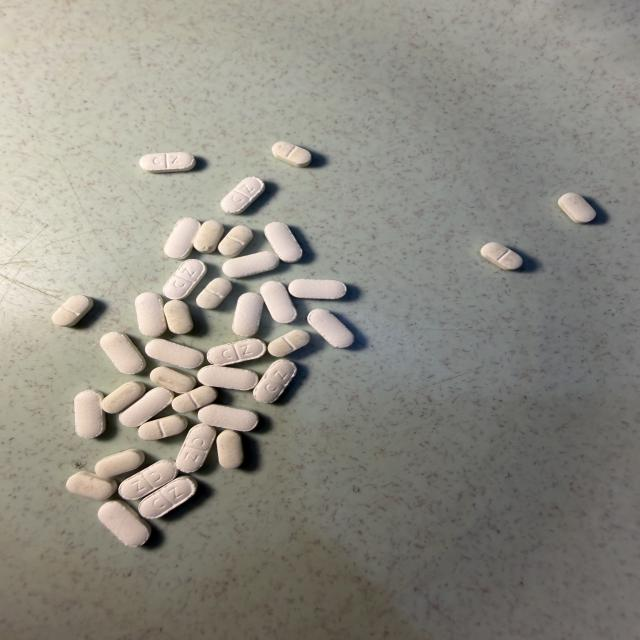pill: (138, 476, 197, 519), (98, 501, 151, 546), (119, 459, 177, 499), (119, 387, 174, 427), (176, 424, 216, 473), (100, 332, 145, 374), (254, 360, 296, 403), (308, 309, 354, 347), (163, 259, 206, 299), (146, 339, 203, 368), (264, 221, 303, 263), (198, 404, 258, 431), (207, 338, 266, 365), (221, 177, 264, 214), (260, 281, 296, 323), (198, 365, 258, 390), (74, 390, 105, 438), (164, 218, 200, 259), (223, 252, 279, 278), (67, 472, 117, 500), (102, 381, 145, 413), (95, 449, 144, 477), (136, 292, 166, 337), (232, 293, 263, 336), (52, 295, 93, 326), (138, 415, 187, 440), (172, 386, 217, 413), (150, 367, 196, 393), (481, 242, 522, 270), (289, 279, 346, 299), (268, 330, 310, 357), (558, 193, 595, 223), (140, 152, 195, 172), (218, 225, 252, 257), (196, 278, 231, 309), (194, 220, 224, 253), (217, 430, 243, 468), (272, 142, 311, 167), (165, 300, 193, 334)
